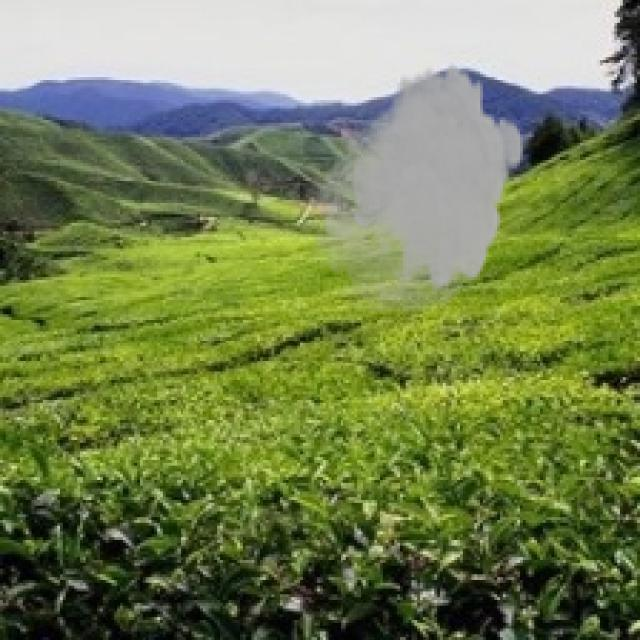Smoke: (306, 60, 526, 312)
